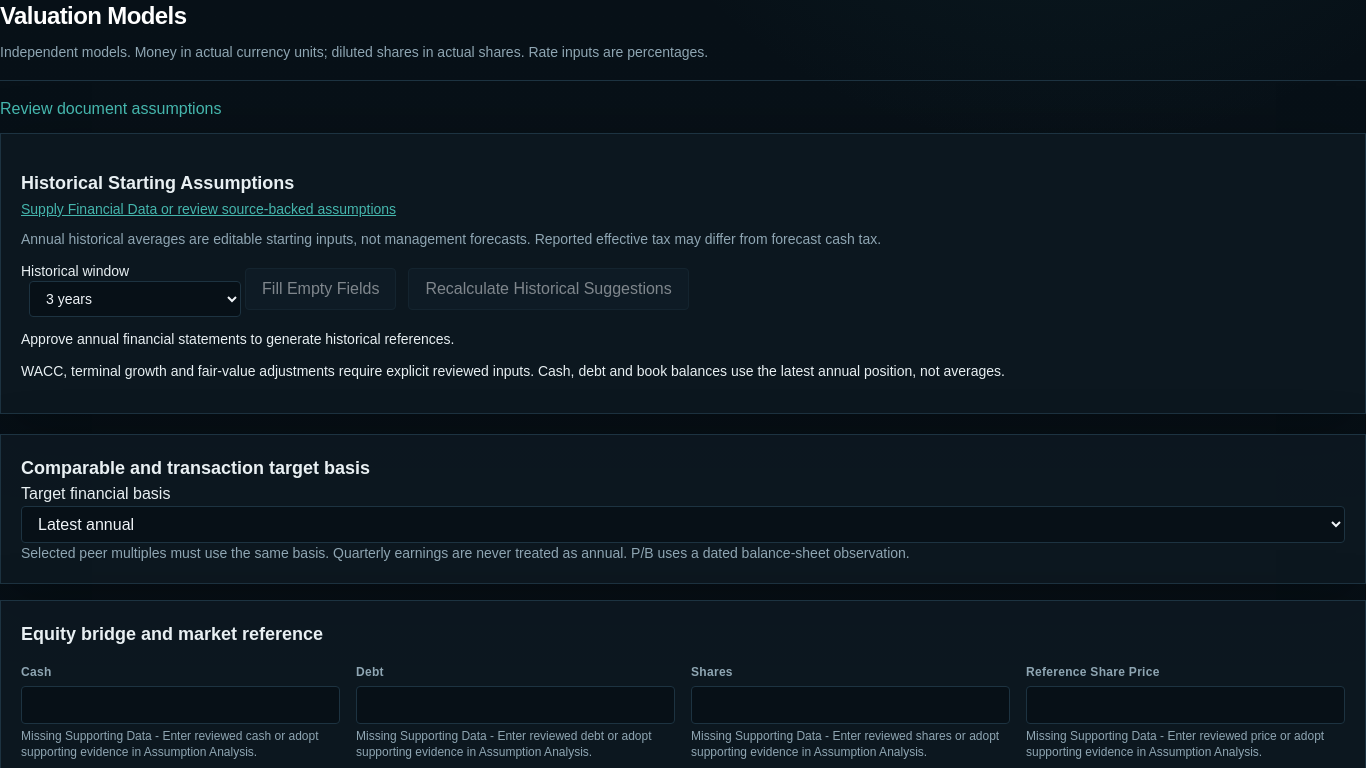
it: hides stale results immediately when assumptions change
Type "25" into the number field labelled "Cash" at (180, 705), box x1=21 y1=686 x2=340 y2=724
(page scrolled)
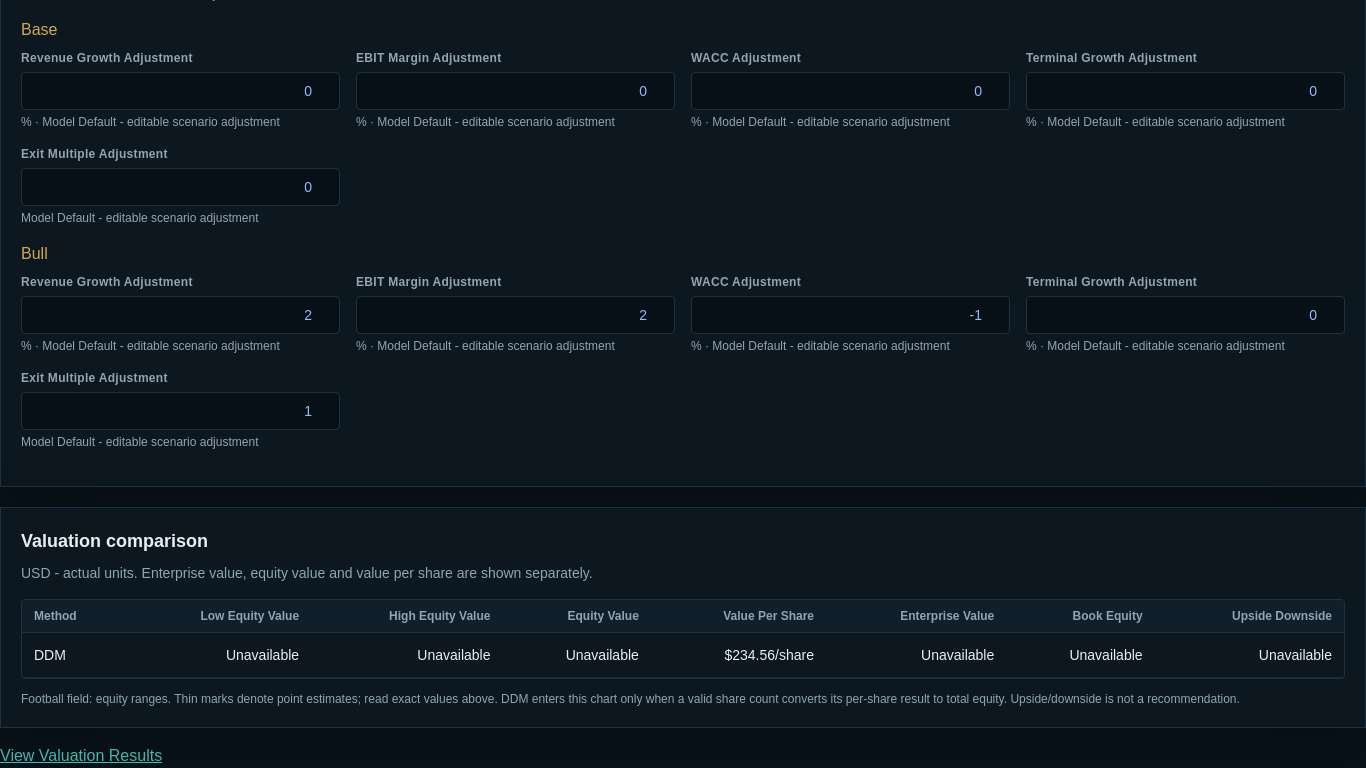
Now the text "$234.56/share" is shown, box x1=651 y1=632 x2=826 y2=678
